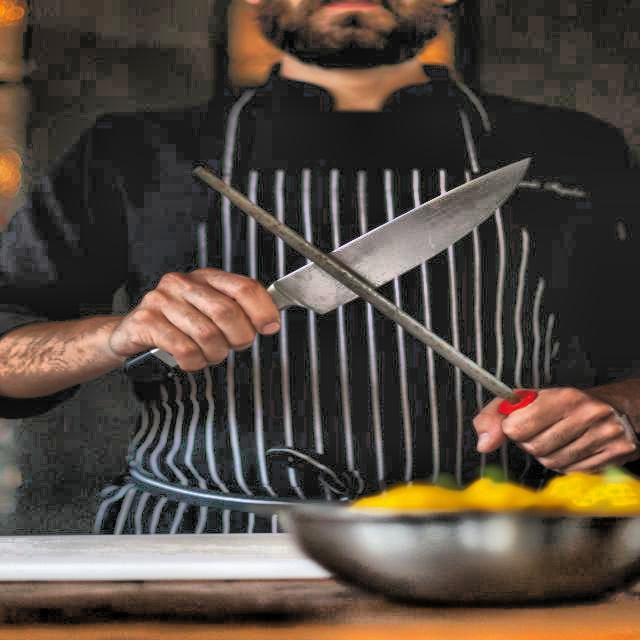knife: (134, 143, 556, 370)
